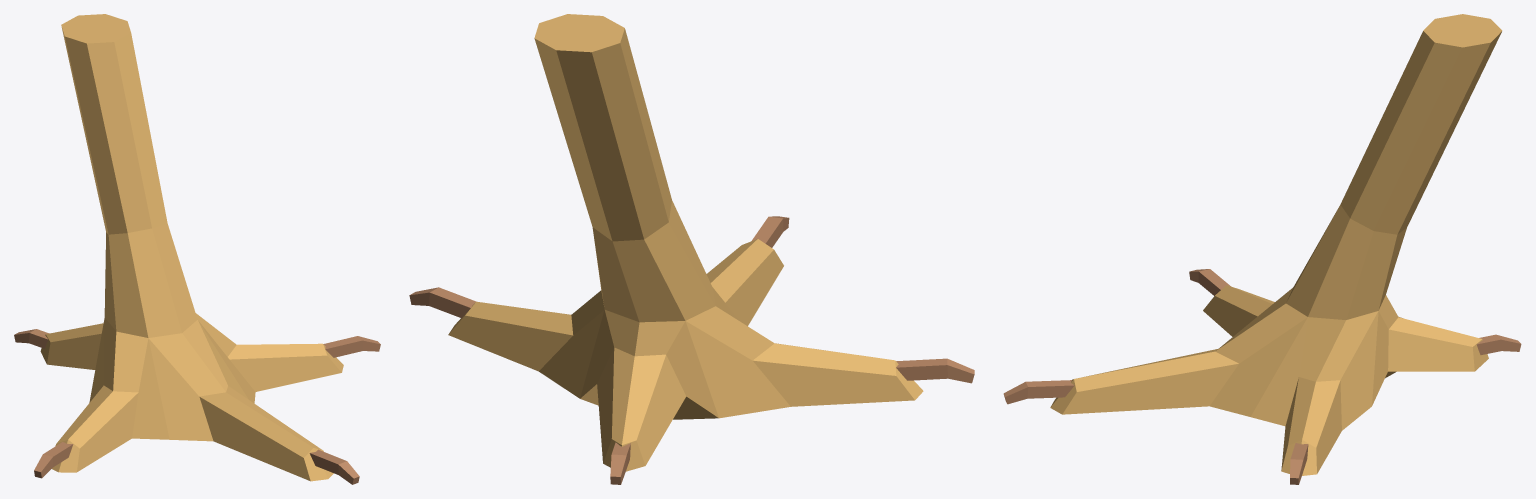
File: chicken-foot.glb
3 views of the same model, side by side, from view 1: azimuth 30°, elevation 25°; view 2: azimuth 150°, elevation 25°; view 3: azimuth 270°, elevation 25° (orthographic). The views are drawn at different scales.
Parts seen in each view (by area): view 1: Geo_ChickenFoot; view 2: Geo_ChickenFoot; view 3: Geo_ChickenFoot.
Boxes of the visible parts, <box> form: Geo_ChickenFoot: <box>14,14,380,484</box>; Geo_ChickenFoot: <box>409,14,974,484</box>; Geo_ChickenFoot: <box>1003,14,1521,484</box>.
Size of the model in its own units: 34.94 by 27.64 by 36.68.
Materials: 1 (1 with a texture image).
